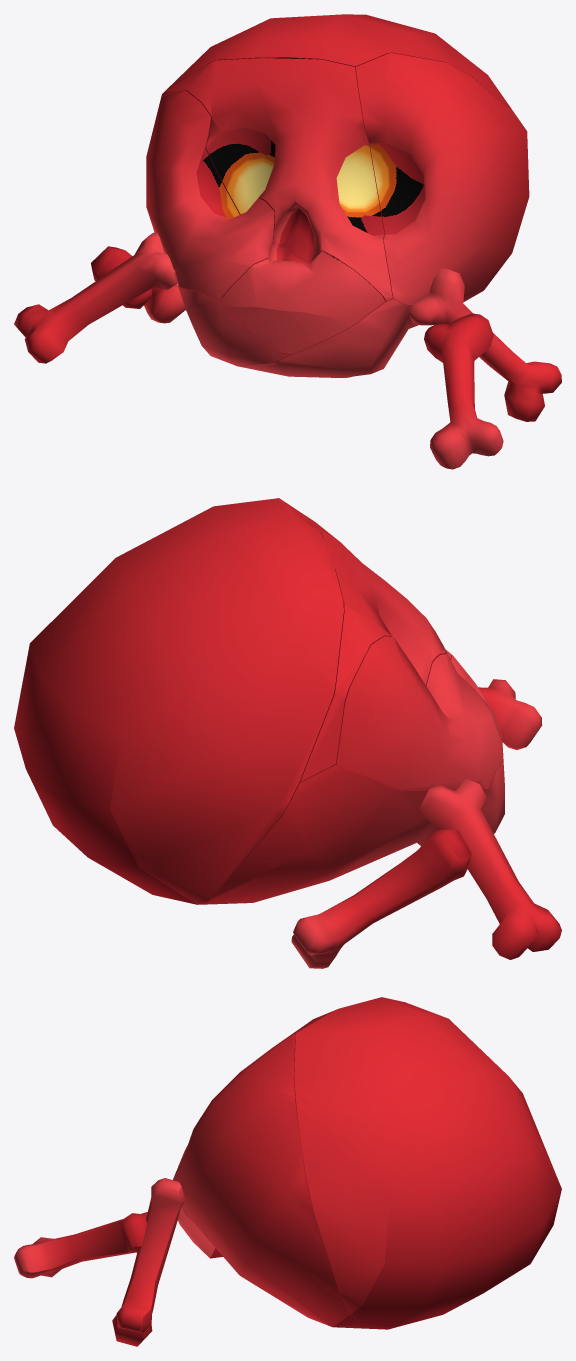
Rendered from Giant_Skul_Drop.fbx.
3 renders of one model, top to bottom at view 1: azimuth 30°, elevation 25°; view 2: azimuth 150°, elevation 25°; view 3: azimuth 270°, elevation 25°, orthographic. The views are drawn at different scales.
Visible parts, largest first — view 1: Giant_Skul_Drop_cell.006, Giant_Skul_Drop_cell.003, Giant_Skul_Drop_cell.002, Giant_Skul_Drop_cell.004, Giant_Skul_Drop_cell.001, Giant_Skul_Drop_cell.010, Giant_Skul_Drop_cell.008, Giant_Skul_Drop_cell.005, Giant_Skul_Drop_cell.009, Giant_Skul_Drop_cell, Giant_Skul_Drop_cell.007; view 2: Giant_Skul_Drop_cell.001, Giant_Skul_Drop_cell.002, Giant_Skul_Drop_cell, Giant_Skul_Drop_cell.003, Giant_Skul_Drop_cell.010, Giant_Skul_Drop_cell.007, Giant_Skul_Drop_cell.008; view 3: Giant_Skul_Drop_cell.001, Giant_Skul_Drop_cell.006, Giant_Skul_Drop_cell.009, Giant_Skul_Drop_cell.008, Giant_Skul_Drop_cell.007, Giant_Skul_Drop_cell.005.
Part boxes in pixels (box(x1,y1,x2,y2)): Giant_Skul_Drop_cell.006: box(355, 53, 529, 305); Giant_Skul_Drop_cell.003: box(159, 58, 393, 301); Giant_Skul_Drop_cell.002: box(146, 90, 274, 299); Giant_Skul_Drop_cell.004: box(221, 251, 385, 353); Giant_Skul_Drop_cell.001: box(166, 14, 511, 109); Giant_Skul_Drop_cell.010: box(14, 232, 176, 363); Giant_Skul_Drop_cell.008: box(424, 313, 503, 469); Giant_Skul_Drop_cell.005: box(240, 297, 470, 377); Giant_Skul_Drop_cell.009: box(408, 268, 561, 421); Giant_Skul_Drop_cell: box(148, 213, 310, 366); Giant_Skul_Drop_cell.007: box(91, 246, 185, 323); Giant_Skul_Drop_cell.001: box(14, 498, 343, 904); Giant_Skul_Drop_cell.002: box(336, 636, 502, 790); Giant_Skul_Drop_cell: box(204, 759, 504, 904); Giant_Skul_Drop_cell.003: box(299, 522, 451, 781); Giant_Skul_Drop_cell.010: box(420, 779, 561, 959); Giant_Skul_Drop_cell.007: box(291, 742, 525, 968); Giant_Skul_Drop_cell.008: box(478, 679, 542, 747); Giant_Skul_Drop_cell.001: box(294, 997, 561, 1327); Giant_Skul_Drop_cell.006: box(173, 1033, 360, 1327); Giant_Skul_Drop_cell.009: box(112, 1178, 181, 1346); Giant_Skul_Drop_cell.008: box(14, 1212, 147, 1273); Giant_Skul_Drop_cell.007: box(19, 1187, 184, 1344); Giant_Skul_Drop_cell.005: box(178, 1207, 411, 1329).
Bounding box in the file's own units: 209 × 136 × 227.
